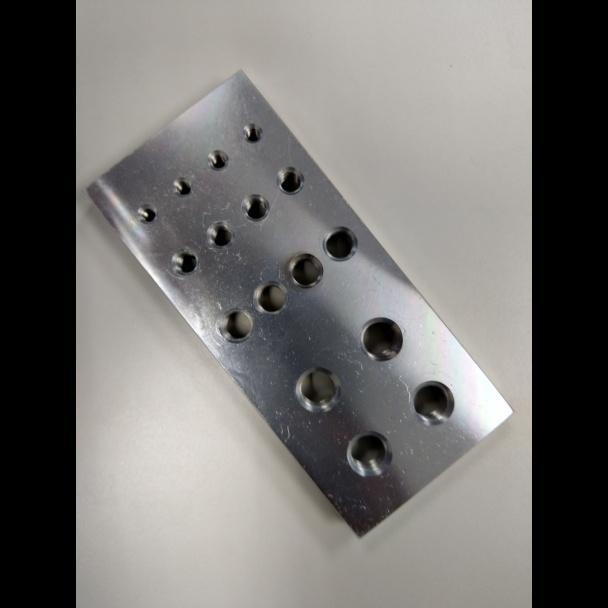hole: (344, 430, 394, 478), (294, 365, 342, 414), (408, 379, 456, 427), (357, 316, 403, 362), (321, 225, 358, 262), (287, 252, 324, 289), (217, 307, 255, 343), (252, 279, 288, 315), (205, 220, 236, 250), (240, 193, 270, 222), (276, 166, 305, 195), (170, 248, 200, 275), (136, 201, 158, 224), (206, 149, 229, 171), (241, 123, 264, 144), (172, 176, 193, 197)
